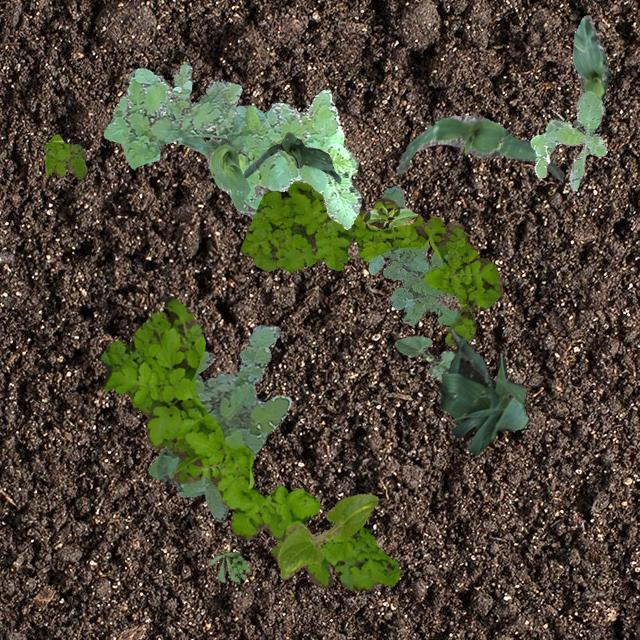crop: (438, 326, 528, 454), (396, 114, 562, 180), (276, 492, 376, 578), (175, 134, 262, 218), (242, 132, 340, 182), (572, 15, 610, 126), (394, 334, 454, 378), (361, 205, 417, 228)
weed: (100, 296, 402, 590), (239, 180, 502, 344), (103, 62, 360, 228), (147, 324, 290, 520), (368, 186, 458, 324), (530, 90, 606, 190), (42, 134, 86, 178), (206, 550, 248, 582)
